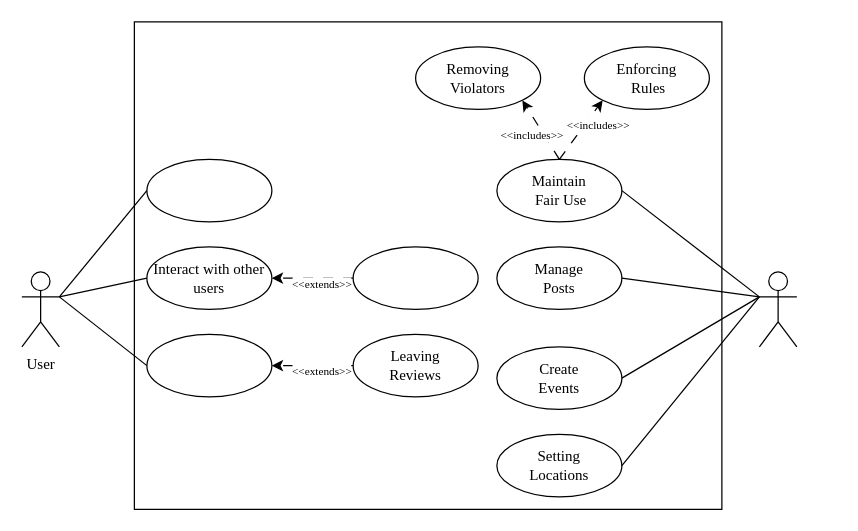
Image size: 858x531. Some labels were removed from this diagram. Each missing label, with the centre of its shape:
Community Admin: the point at 777,309
Obtain Articles: the point at 209,365
Participate on events: the point at 415,277
Upload Queries/Post: the point at 209,190
